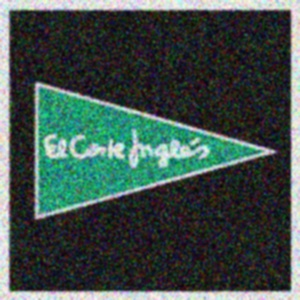corte_ingles: (252, 42, 288, 127)
